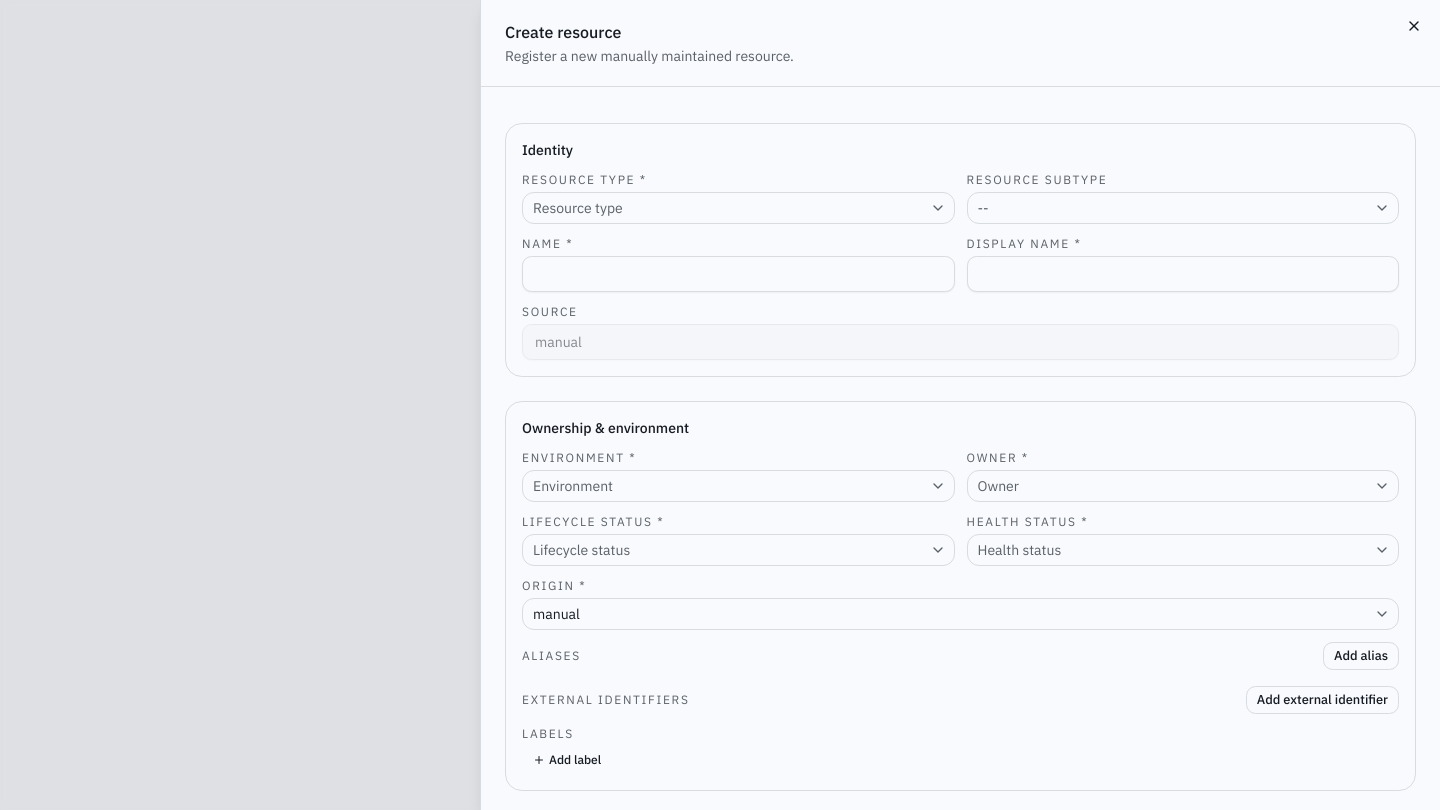
CreateResourceSheet › shows proxy profile fields with active/standby role for database_proxy
Click the dropdown labelled "Resource type ▼": {"x": 578, "y": 208} [522, 192, 954, 224]
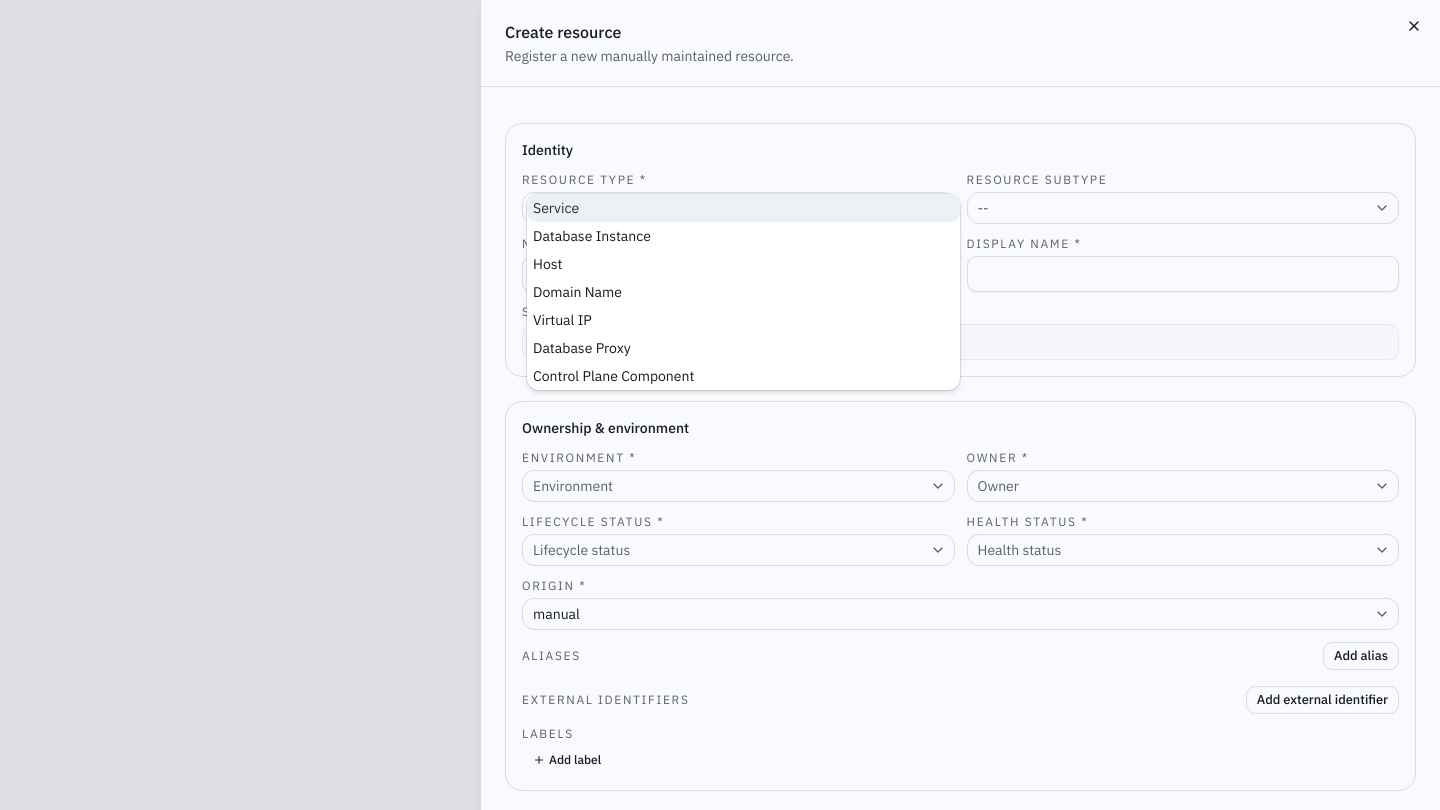
Click the option "Database Proxy": {"x": 582, "y": 348} [533, 339, 631, 357]
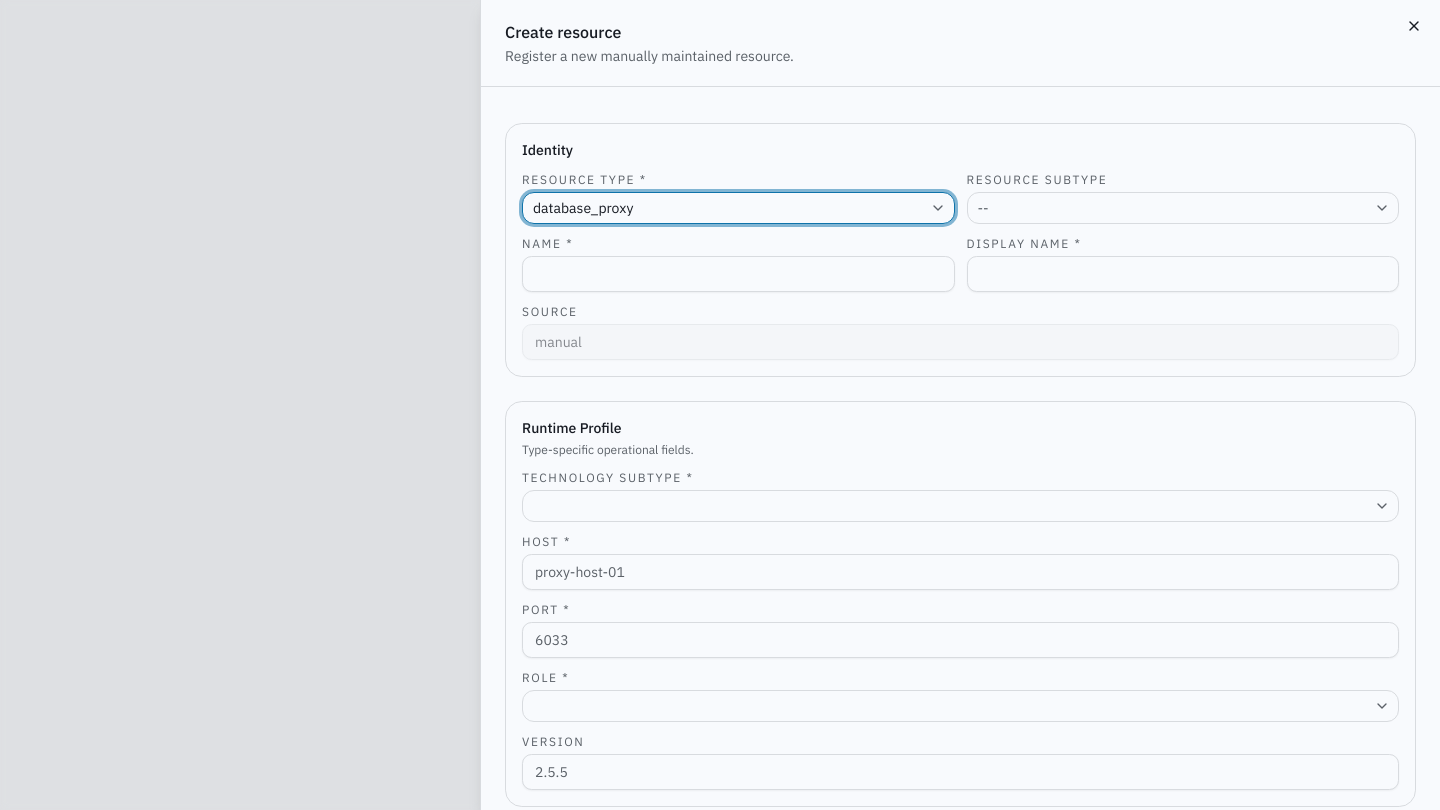
Now the dropdown named "Technology subtype" is shown, box [522, 490, 1399, 522]
Now the field labelled "Host *" is shown, box [522, 554, 1399, 590]
Now the number field labelled "Port *" is shown, box [522, 622, 1399, 658]
Click the dropdown named "Role *": {"x": 1382, "y": 706} [522, 690, 1399, 722]
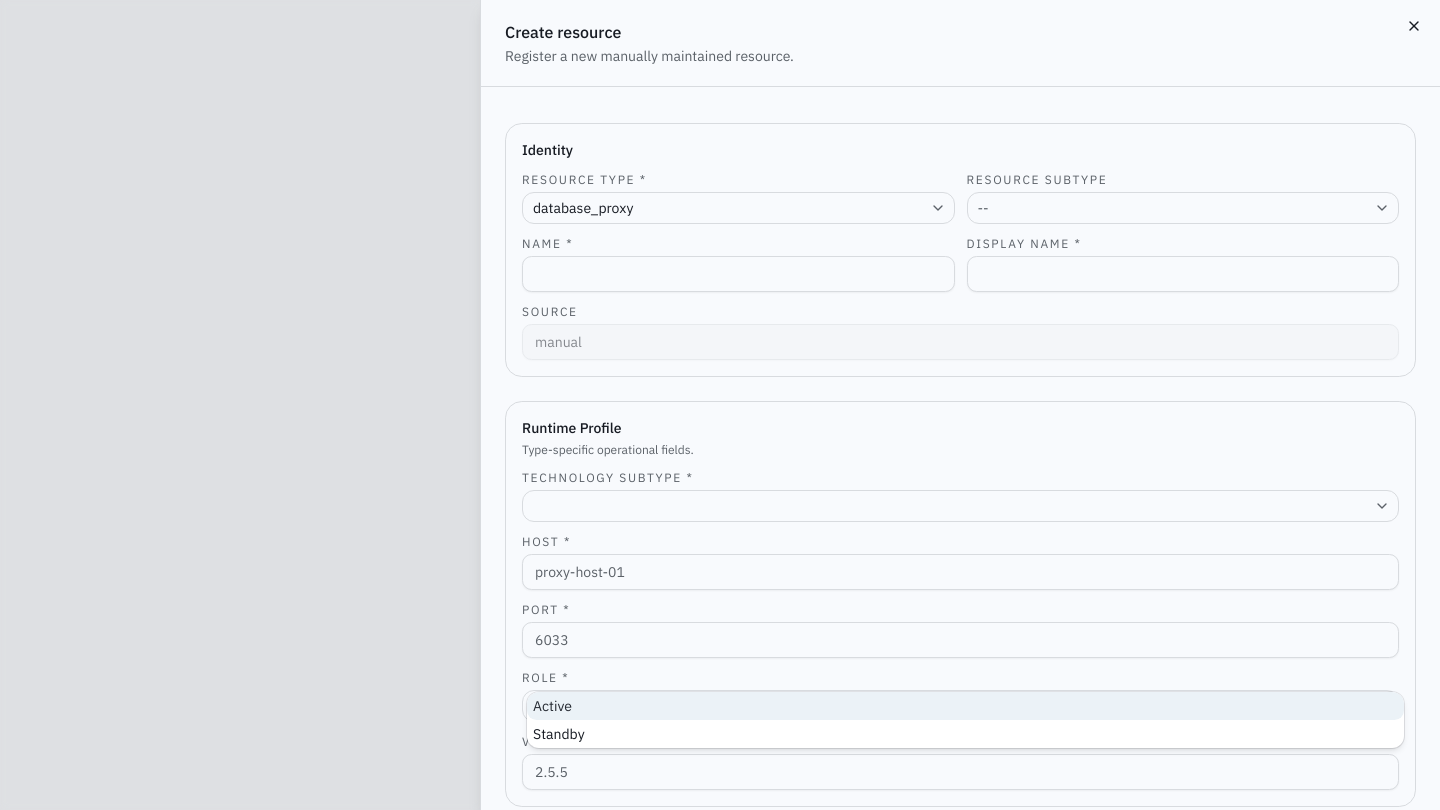
Now the text "Active" is shown, box [533, 697, 572, 715]
Now the text "Standby" is shown, box [533, 725, 585, 743]
